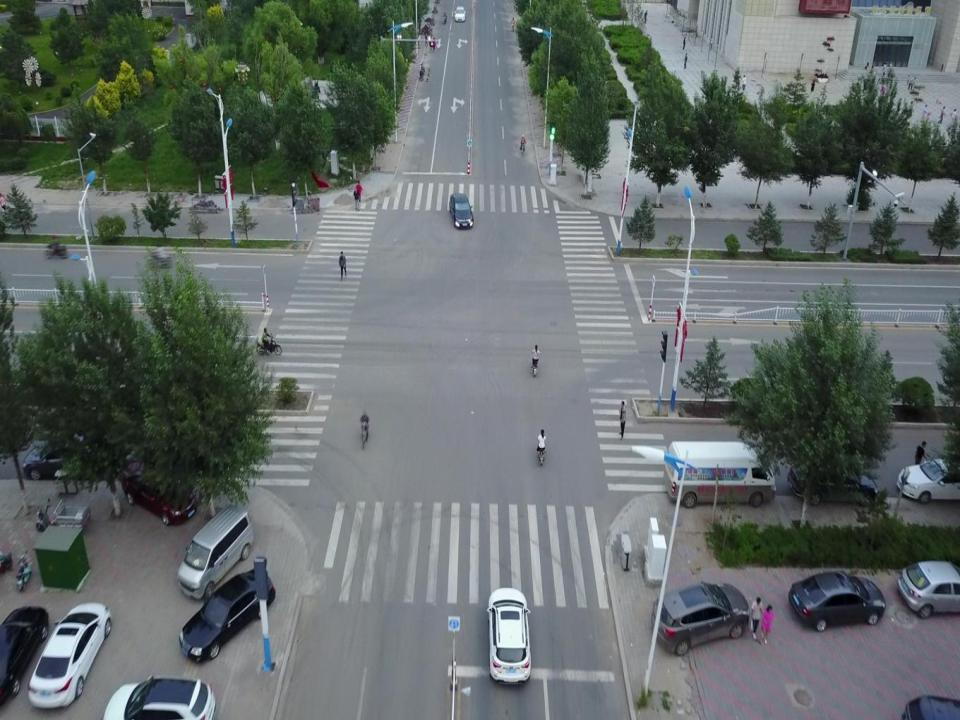car: (178, 568, 274, 664), (28, 605, 111, 707), (652, 582, 748, 656), (789, 571, 885, 629), (122, 456, 198, 526), (100, 676, 215, 720), (22, 432, 111, 484), (0, 609, 47, 707), (787, 462, 882, 506), (488, 590, 532, 682), (900, 558, 960, 618), (897, 458, 960, 505), (449, 191, 474, 232), (454, 7, 466, 22)
van: (664, 440, 779, 509), (177, 506, 254, 598)
